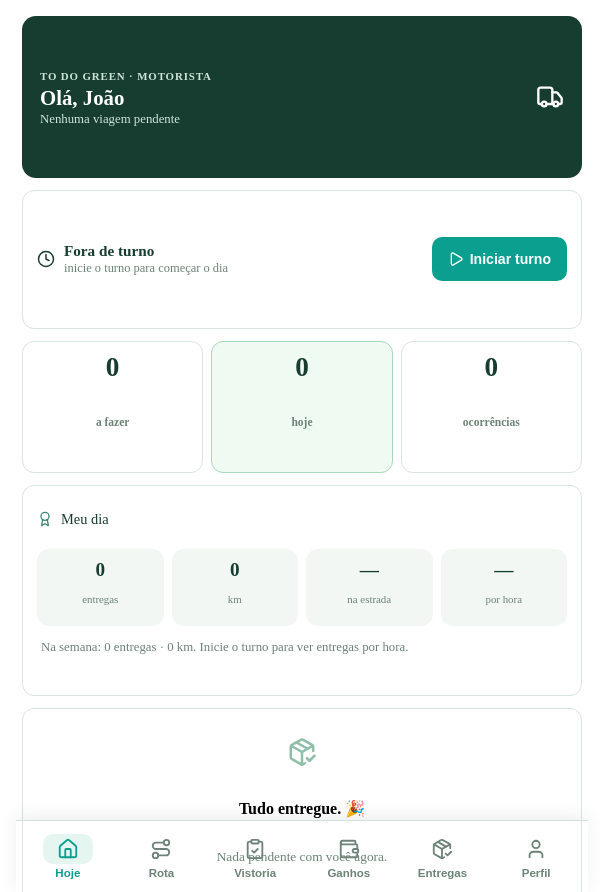
Test: app do motorista — GreenPay (ganhos) › sem régua configurada, convida em vez de mostrar R$ 0
Expected: the heading "Olá, João" is shown, [40,86,124,110]
Click the button "Ganhos": (349, 856) [303,827,395,886]
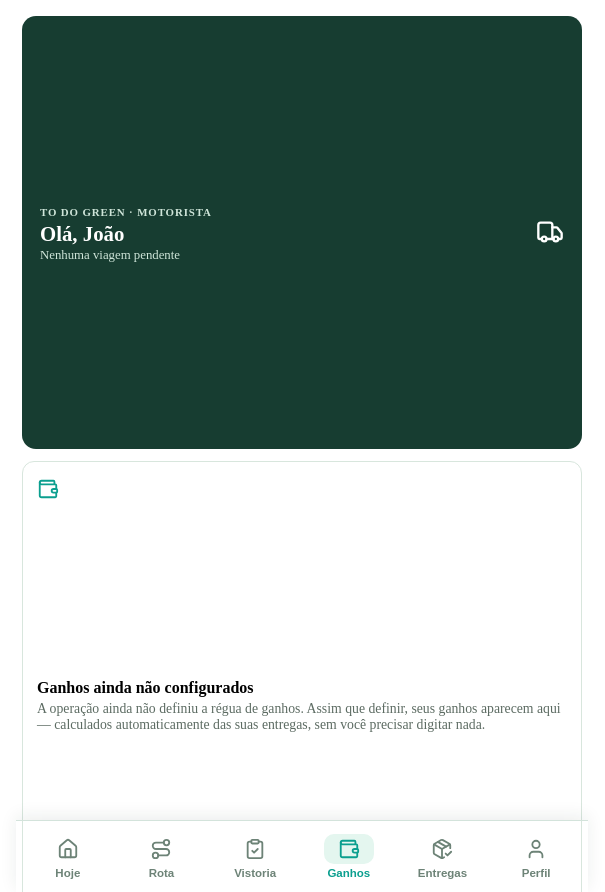
Now the text "Ganhos ainda não configurados" is shown, box [37,679,254,696]
